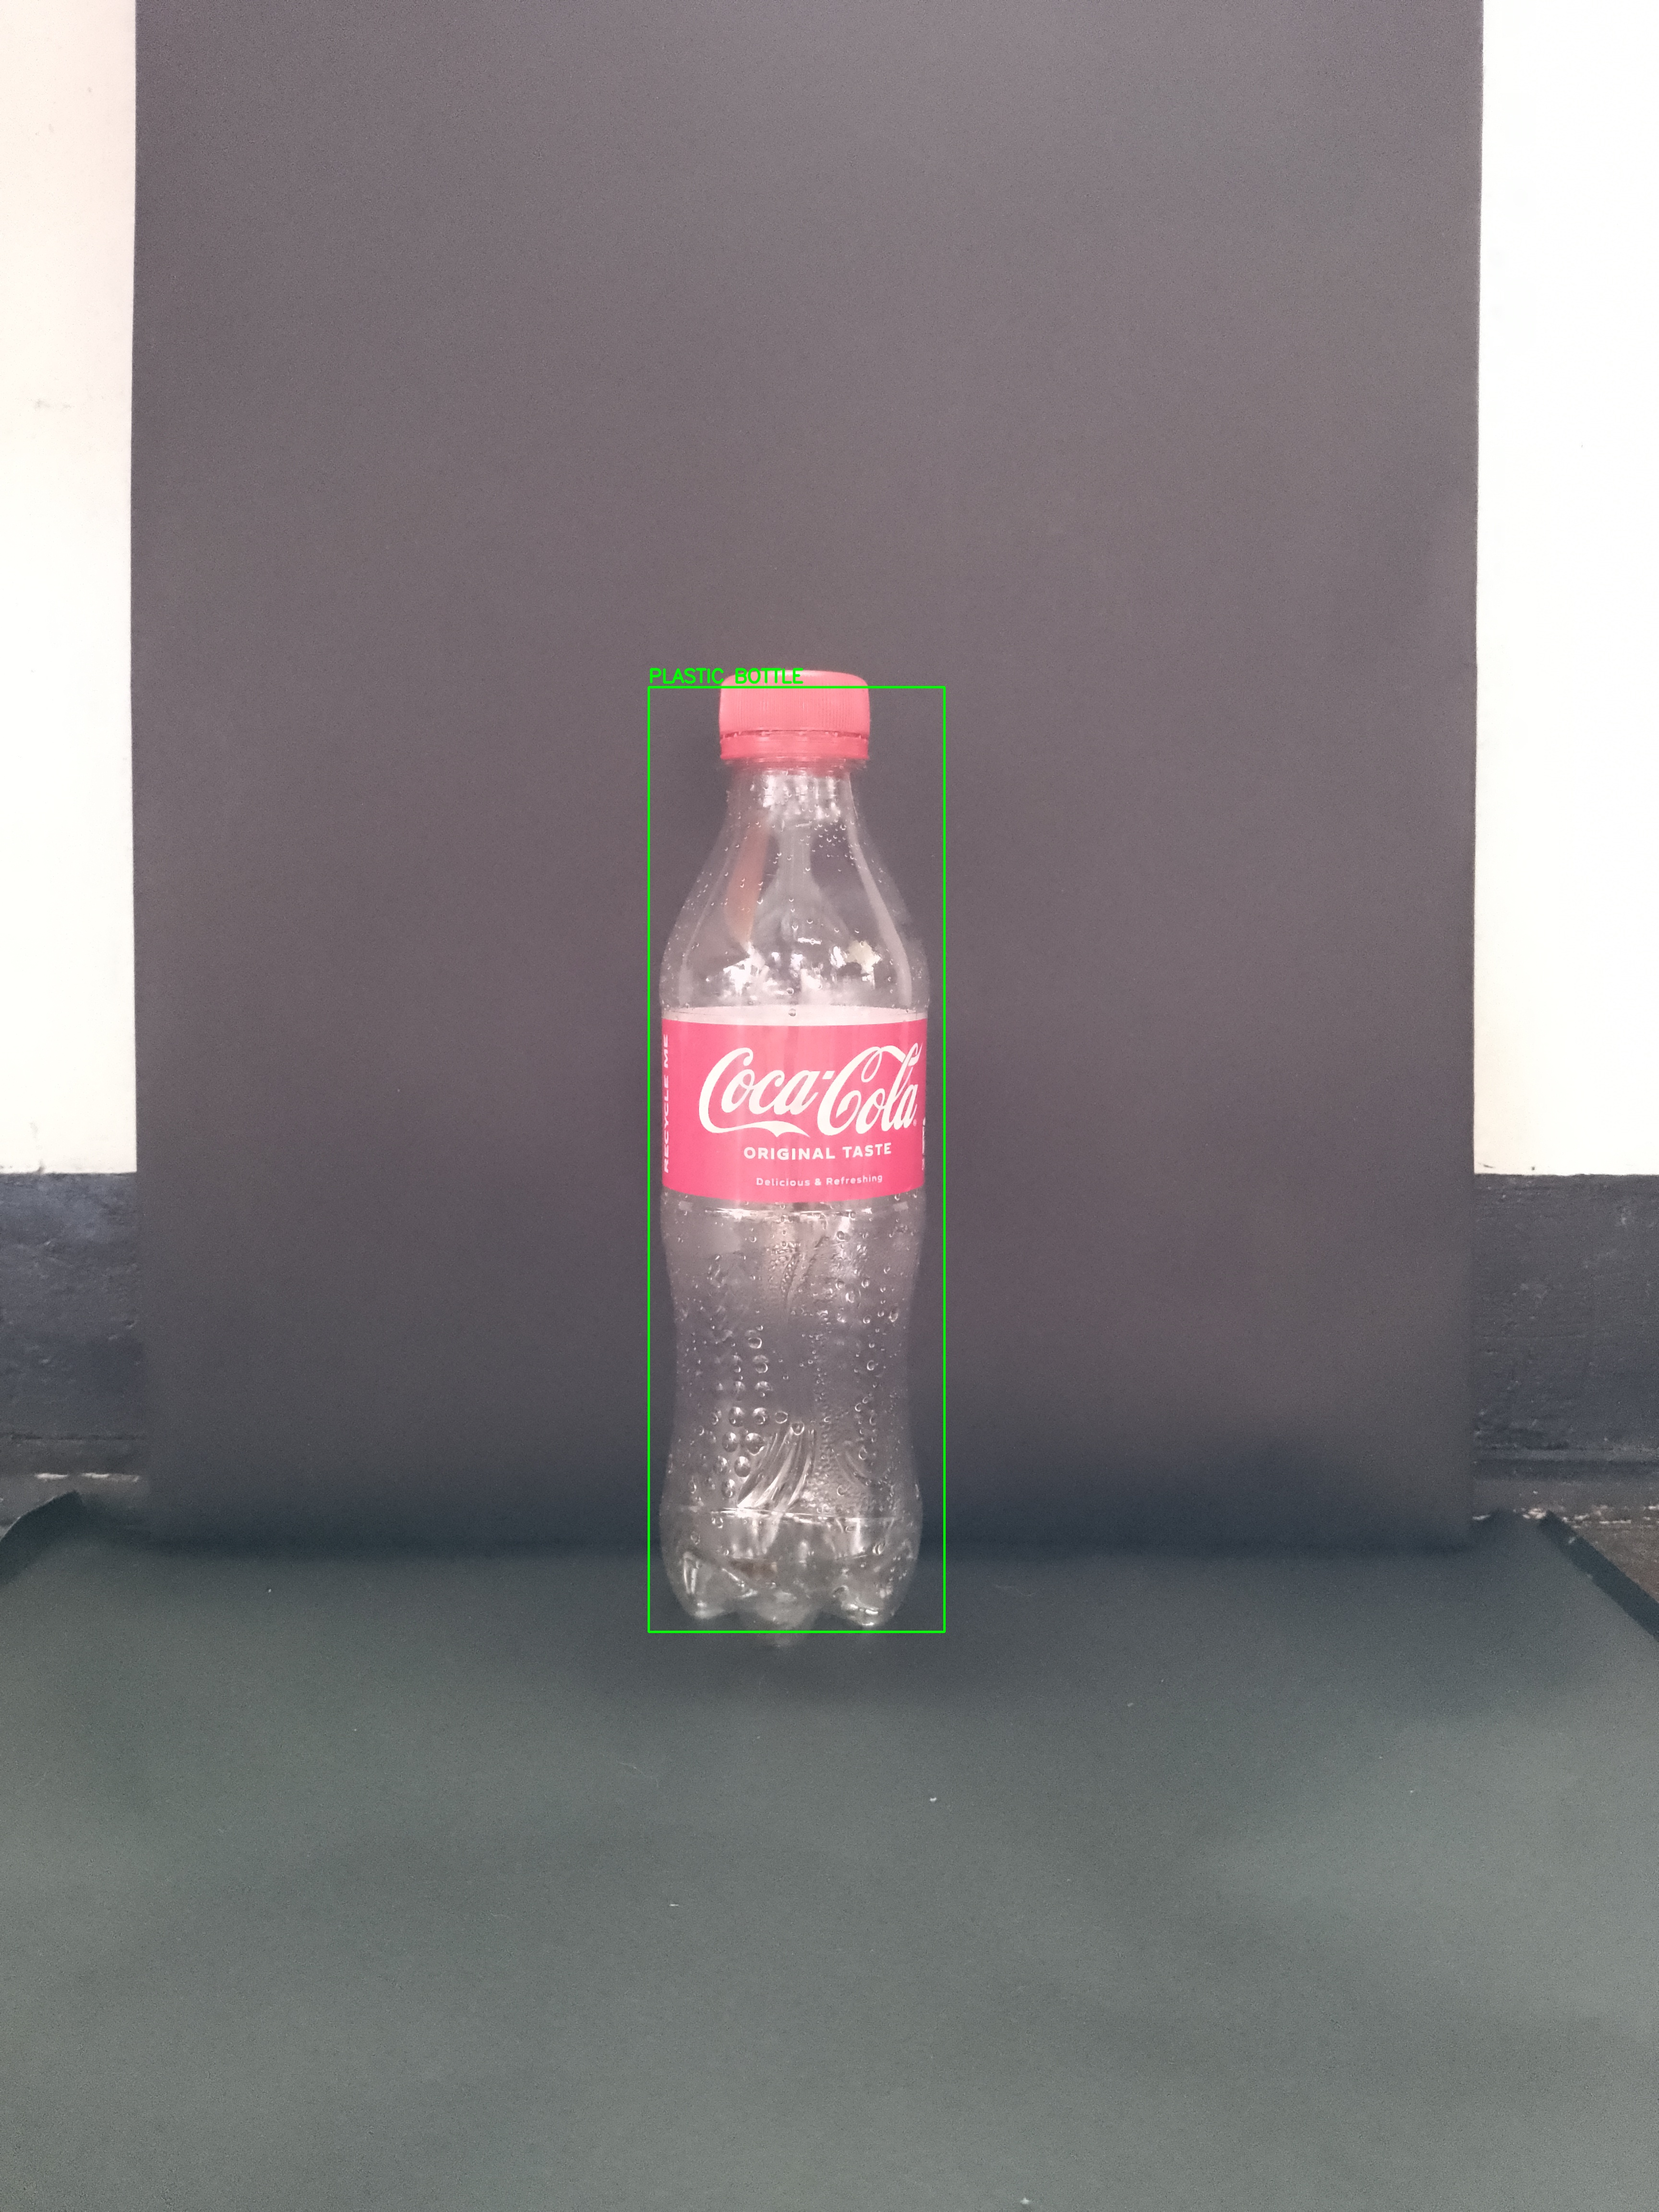plastic bottle: (645, 660, 939, 1653)
